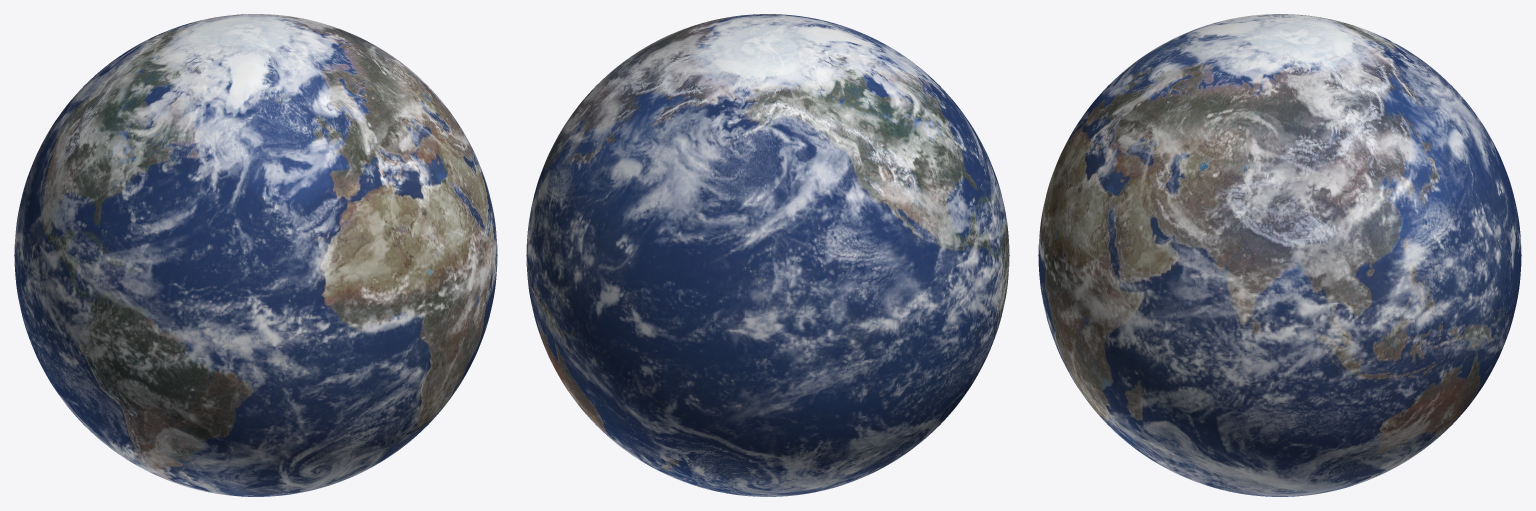
Rendered from earth.fbx.
The picture shows the model from 3 angles, left to right: view 1: azimuth 30°, elevation 25°; view 2: azimuth 150°, elevation 25°; view 3: azimuth 270°, elevation 25°; orthographic projection.
Visible parts, largest first — view 1: node_id30; view 2: node_id30; view 3: node_id30.
Boxes of the visible parts, x1,y1,x2,y2 form: node_id30: (14, 14, 497, 496); node_id30: (526, 14, 1009, 496); node_id30: (1038, 14, 1521, 496).
Size of the model in its own units: 283 by 283 by 283.
1 material, 1 textured.
